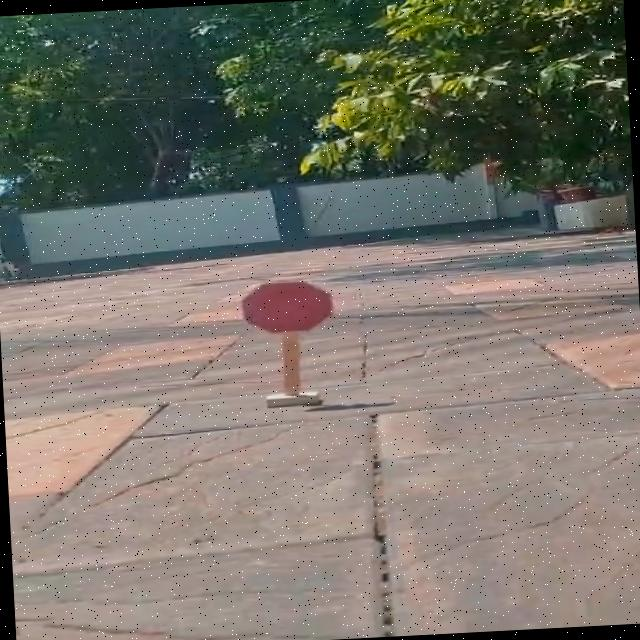Stop: (224, 264, 356, 344)
